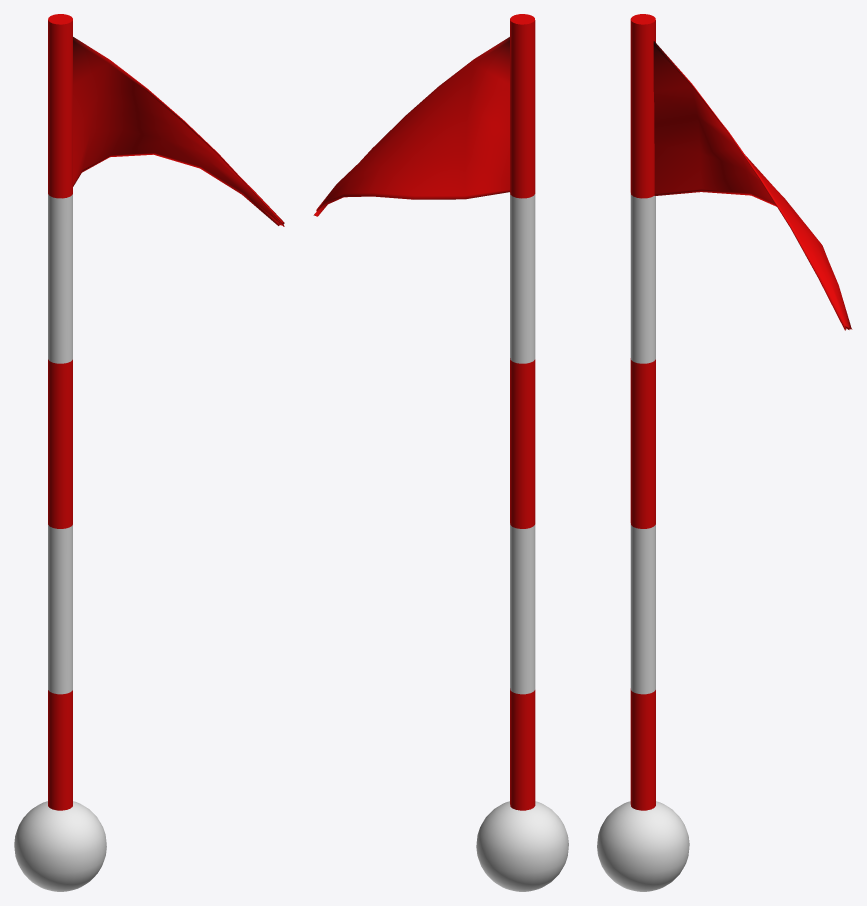
Rendered from flag3.fbx.
3 views of the same model, side by side, from view 1: azimuth 30°, elevation 25°; view 2: azimuth 150°, elevation 25°; view 3: azimuth 330°, elevation 25° (orthographic).
Parts seen in each view (by area): view 1: flag pole, flag cloth; view 2: flag pole, flag cloth; view 3: flag pole, flag cloth.
Part boxes in pixels (<box>): flag pole: <box>14,14,106,891</box>; flag cloth: <box>73,37,284,226</box>; flag pole: <box>476,14,568,891</box>; flag cloth: <box>313,37,509,216</box>; flag pole: <box>597,14,689,891</box>; flag cloth: <box>653,41,852,330</box>.
Size of the model in its own units: 218 by 708 by 77.74.
